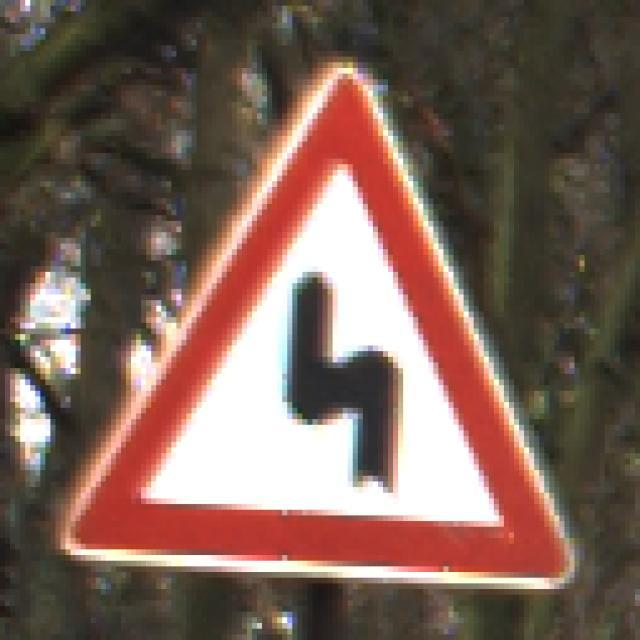left reverse bend: (44, 42, 607, 606)
